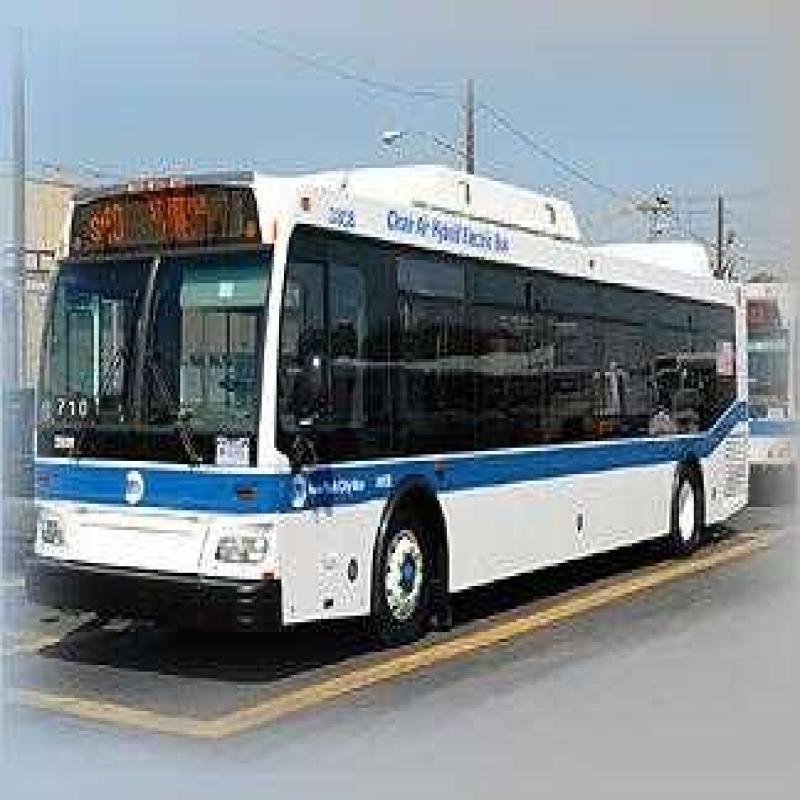bus: (22, 155, 799, 668)
